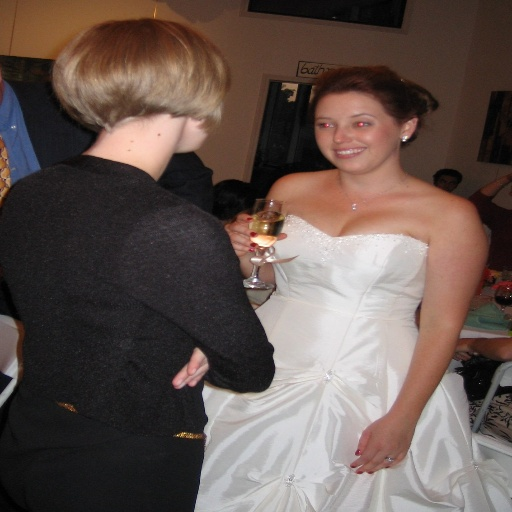hand: (356, 395, 431, 479), (225, 212, 289, 259), (169, 345, 211, 392), (450, 338, 474, 365), (467, 294, 492, 309)
